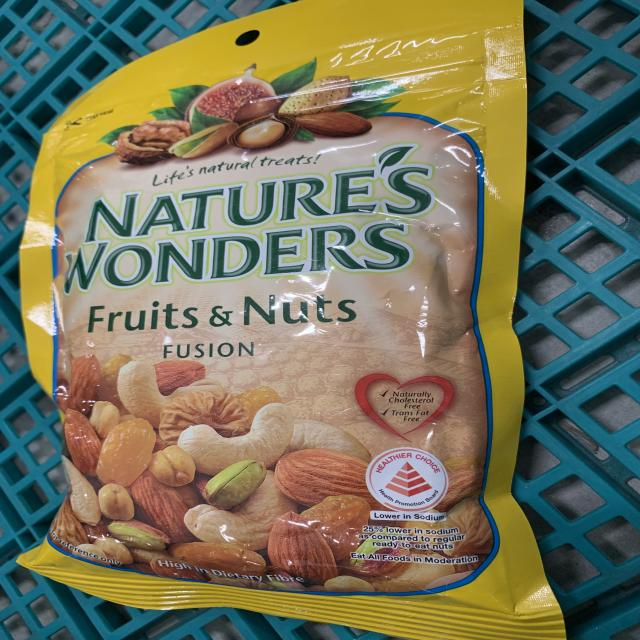object_name: (43, 16, 519, 613)
